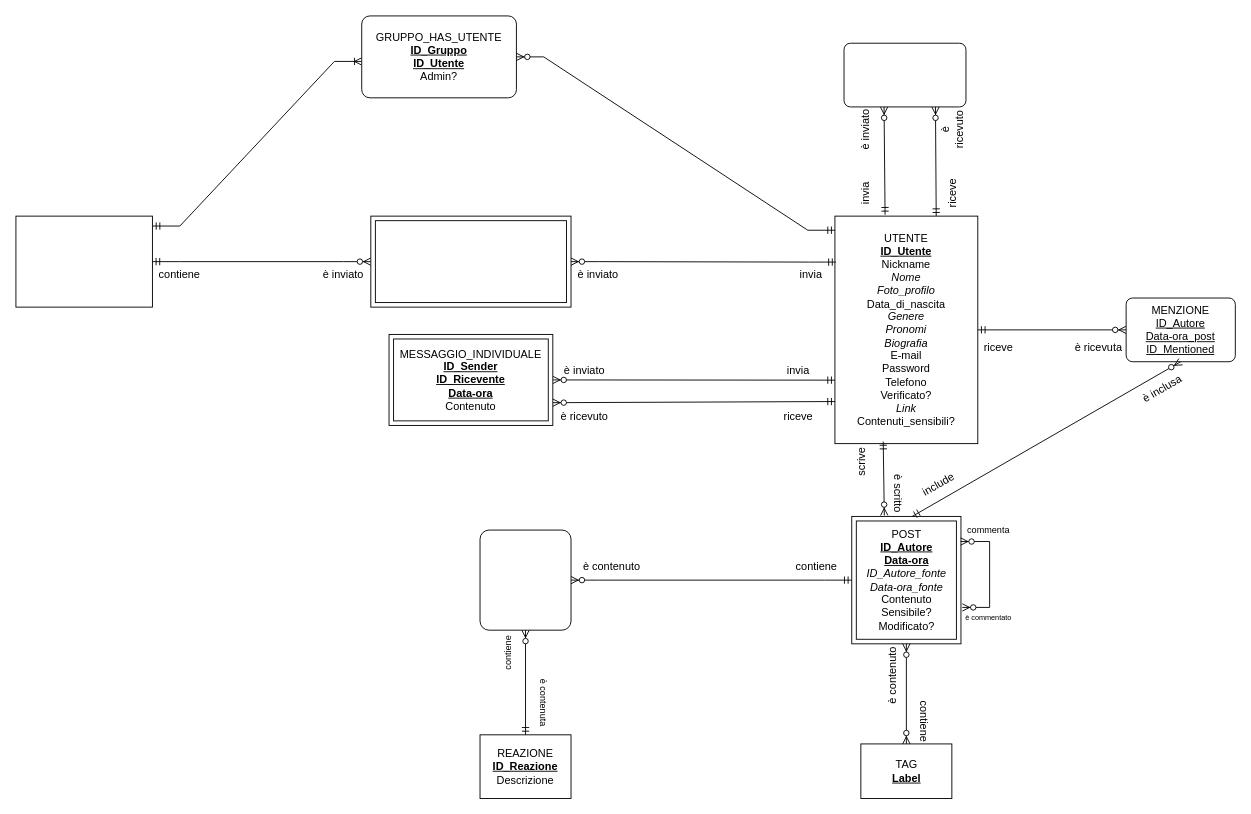
Image size: 1251x814. Some labels were removed from this diagram. Each missing label, with the centre of its shape:
FEEDBACK ID_Utente ID_Autore Data-ora_post ID_Reazione Data-ora: the point at 525,579
FOLLOW Data-ora invio: the point at 904,74
GRUPPO ID_Gruppo Nome Foto_gruppo Descrizione: the point at 83,261
MESSAGGIO_DI_GRUPPO ID_Sender ID_Gruppo Data-ora Contenuto: the point at 470,261
